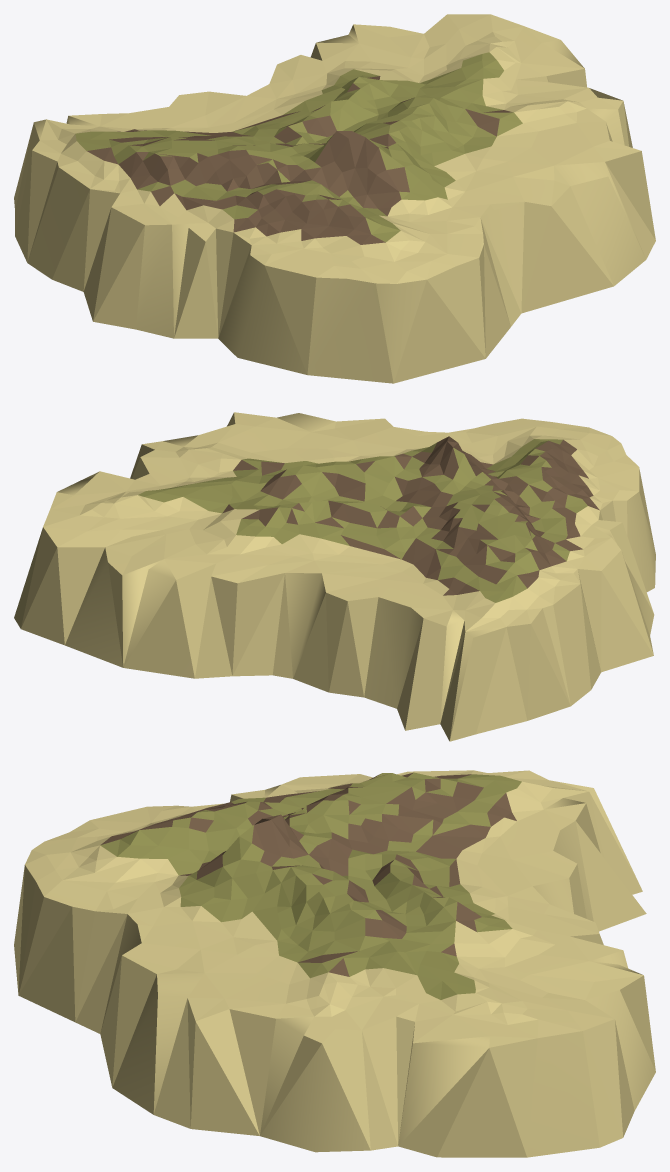
Rendered from rock05.fbx.
3 views of the same model, one above another, from view 1: azimuth 30°, elevation 25°; view 2: azimuth 150°, elevation 25°; view 3: azimuth 270°, elevation 25° (orthographic). The views are drawn at different scales.
Visible parts, largest first — view 1: islet001; view 2: islet001; view 3: islet001.
Part boxes in pixels (x1,y1,x2,y2): islet001: (14, 14, 655, 383); islet001: (14, 412, 655, 741); islet001: (14, 770, 655, 1157).
Bounding box in the file's own units: 3.03 × 3.36 × 0.8619.
